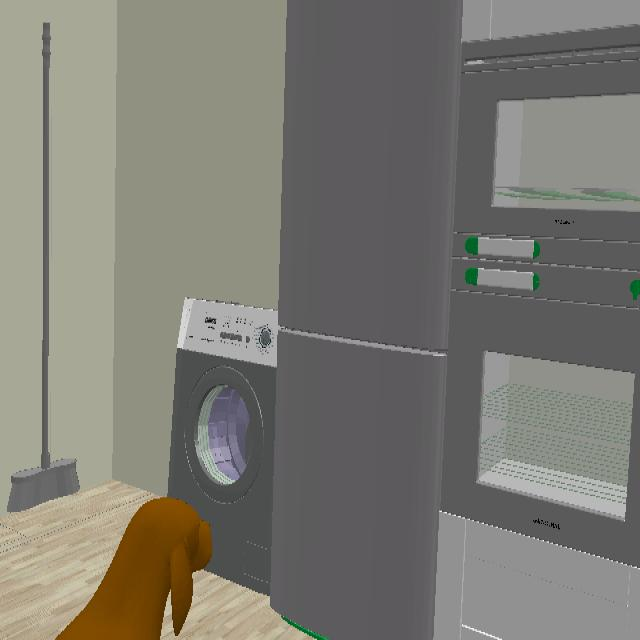fridge: (270, 0, 464, 640)
microwave: (455, 25, 640, 272)
oven: (442, 265, 640, 569)
